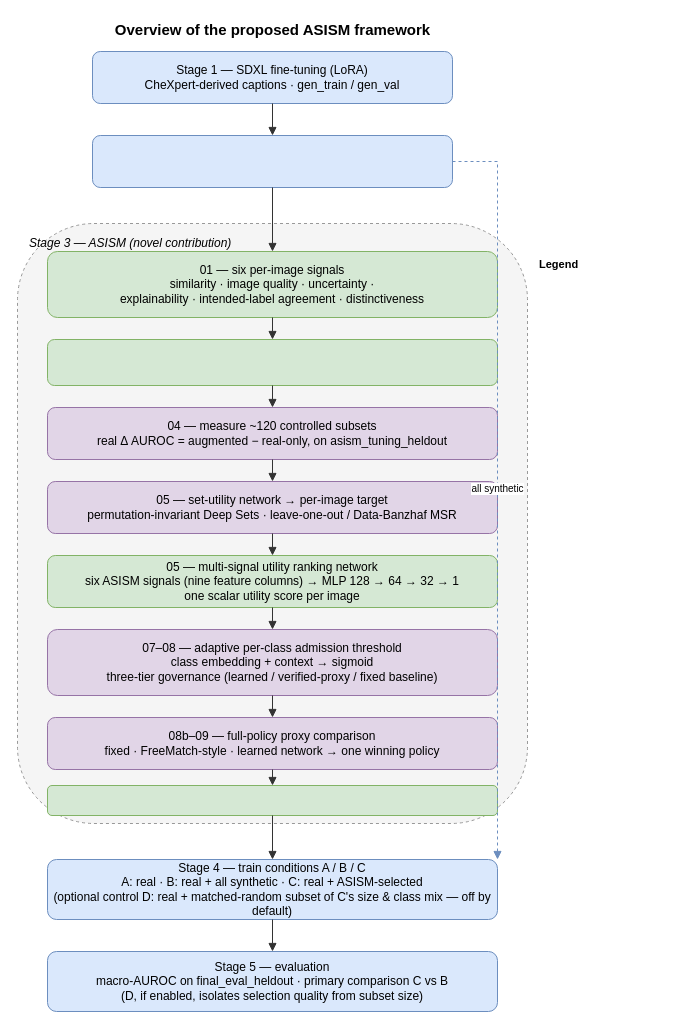
The diagram is 675 pixels wide and 1029 high, and some of its shapes have lost their labels. Here are the shapes that lost their labels. From the top down, the centre of each, then its label:
the point at 272,161: Stage 2 — synthetic generation
the point at 272,362: 02 — Go / No-Go gate include · ablation-only · exclude
the point at 272,800: selected synthetic subset — adaptive_selected_manifest.jsonl
